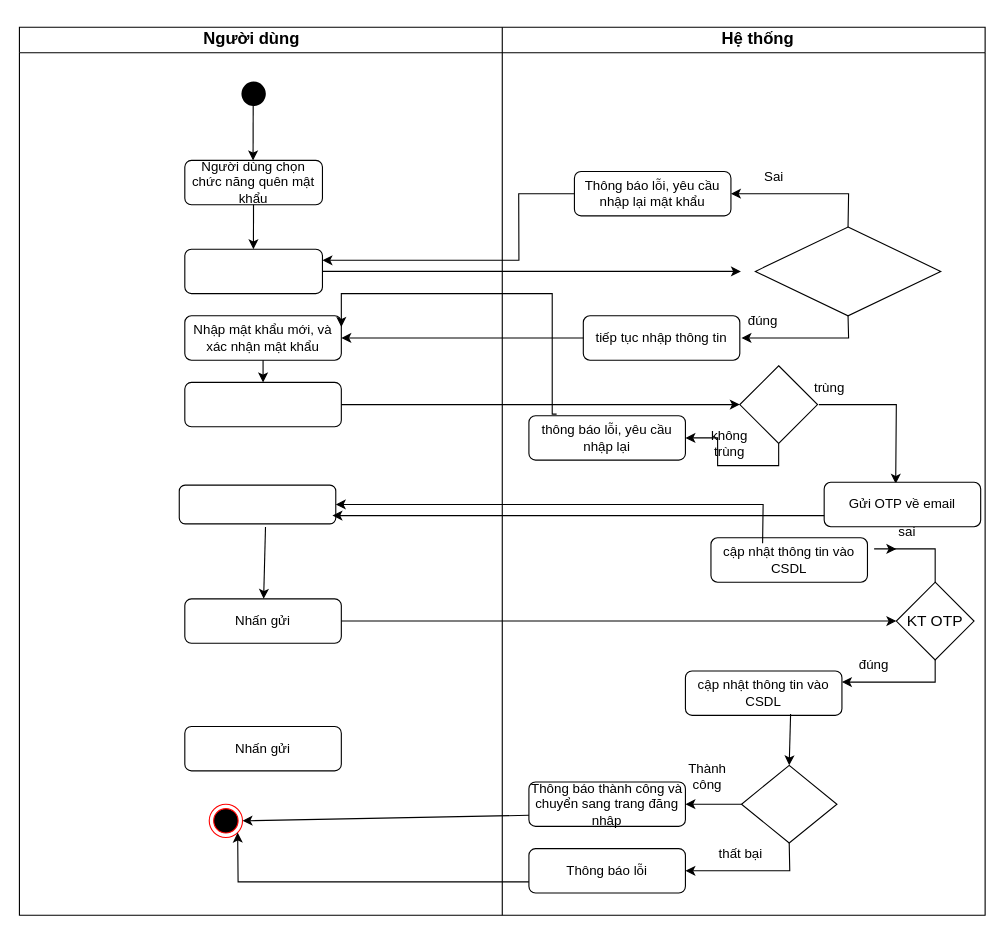
The diagram is 1005 pixels wide and 936 high, and some of its shapes have lost their labels. Each missing label, with the box of its shape:
KT mật khẩu trongDB: (754, 226, 941, 316)
KT trùng: (739, 365, 818, 443)
KT trạng thai: (740, 764, 837, 843)
Nhấn xác nhận: (184, 381, 341, 427)
Nhập mã: (178, 484, 336, 524)
Nhập thông tin mật khẩu cũ: (184, 248, 322, 294)
